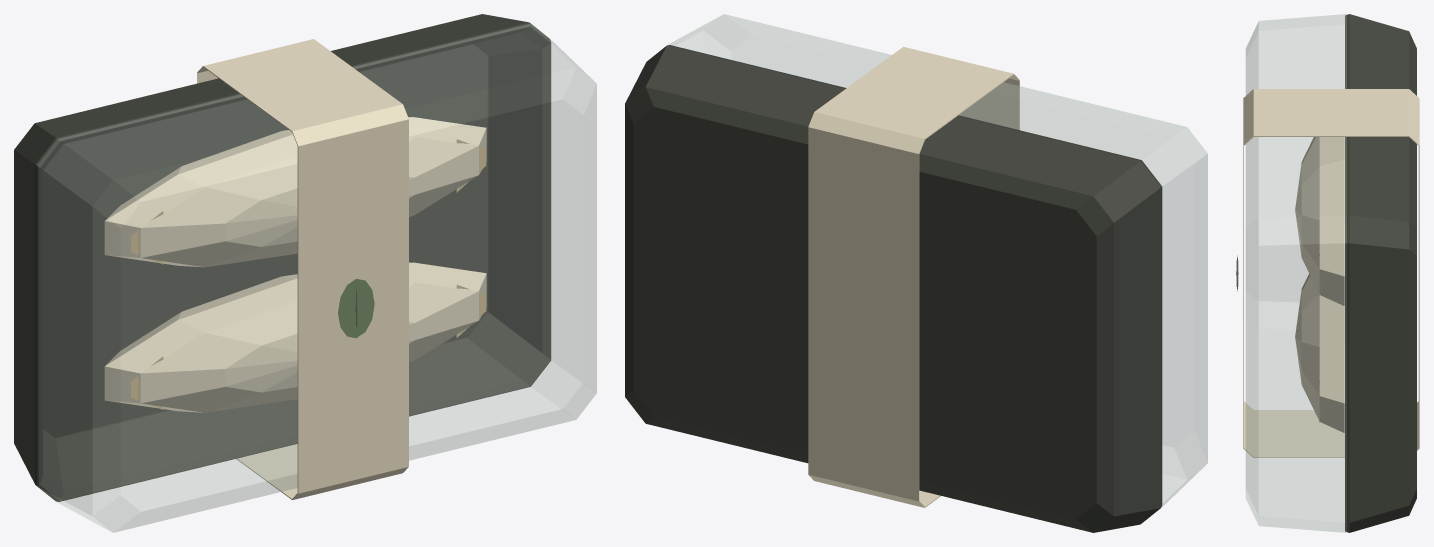
File: burrito.glb
3 views of the same model, side by side, from view 1: azimuth 30°, elevation 25°; view 2: azimuth 150°, elevation 25°; view 3: azimuth 270°, elevation 25° (orthographic). The views are drawn at different scales.
Visible parts, largest first — view 1: burrito; view 2: burrito; view 3: burrito.
Part boxes in pixels (left/top/right/bottom): burrito: left=14, top=14, right=596, bottom=532; burrito: left=625, top=14, right=1207, bottom=532; burrito: left=1236, top=14, right=1419, bottom=532.
Bounding box in the file's own units: 0.2 × 0.137 × 0.0706.
